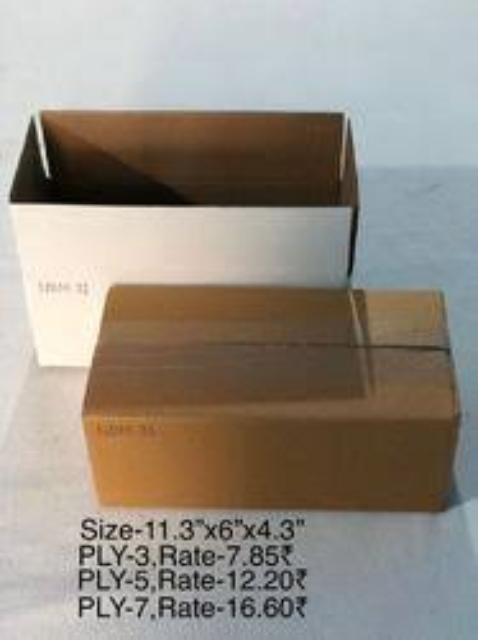cardboard paper: (8, 108, 353, 361), (79, 282, 453, 504)
